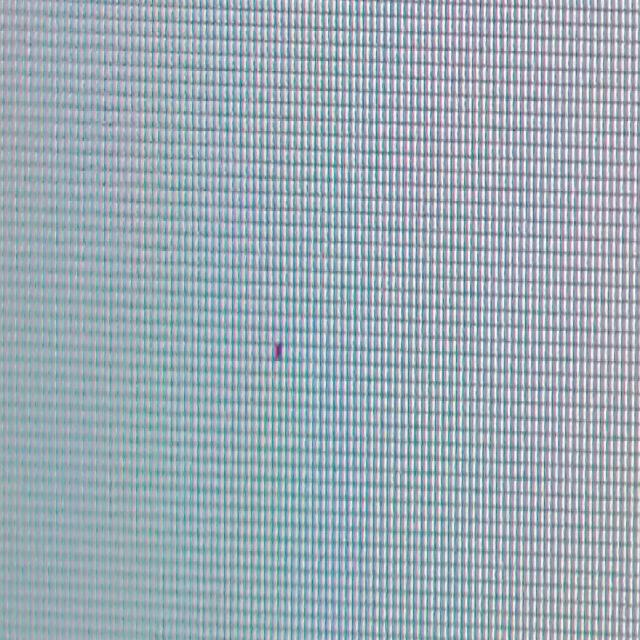Dead pixel: (274, 342, 282, 362)
